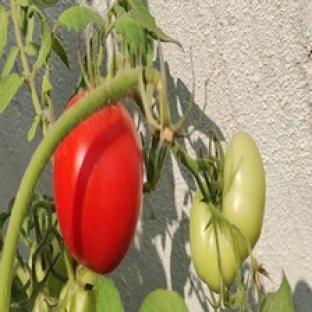Tomato: (53, 104, 143, 272), (190, 133, 266, 292), (190, 191, 236, 292)
